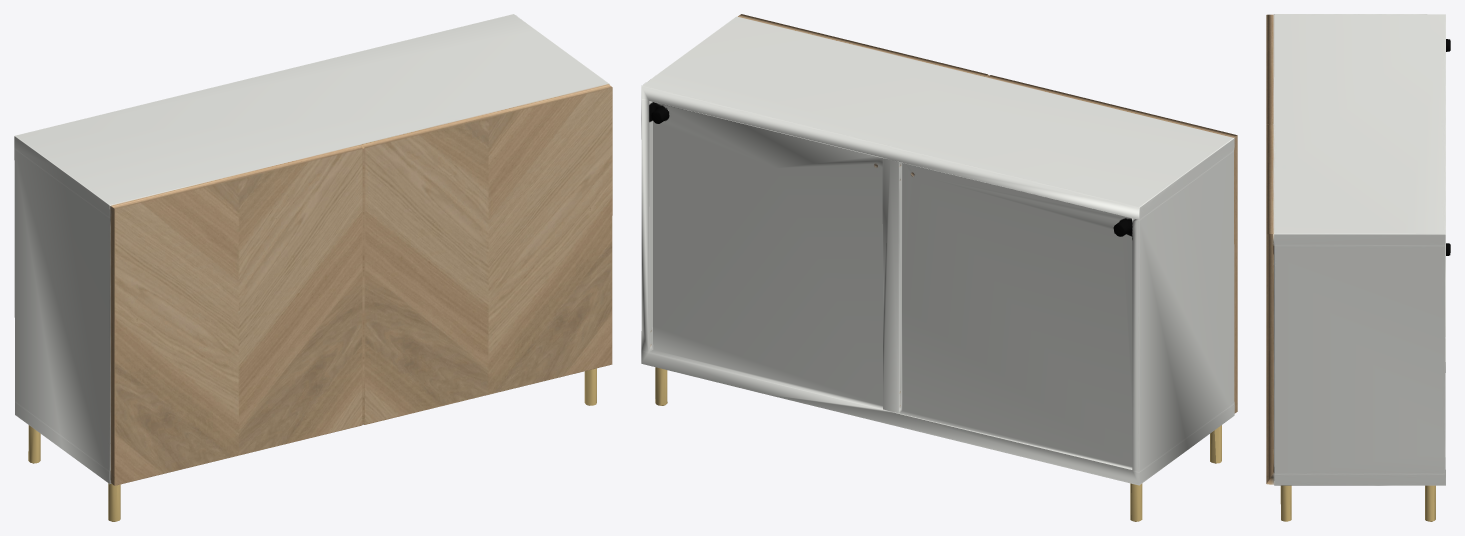
The model's file is BESTÅ storage combination with doors - whiteHedevikenÖsarp oak veneer (59417365).glb.
3 renders of one model, left to right at view 1: azimuth 30°, elevation 25°; view 2: azimuth 150°, elevation 25°; view 3: azimuth 270°, elevation 25°, orthographic. The views are drawn at different scales.
Visible parts, largest first — view 1: ProcessedMeshNode; view 2: ProcessedMeshNode; view 3: ProcessedMeshNode.
Part boxes in pixels (bbox=[...]): ProcessedMeshNode: bbox=[14, 14, 612, 521]; ProcessedMeshNode: bbox=[641, 14, 1237, 521]; ProcessedMeshNode: bbox=[1266, 14, 1450, 521].
Bounding box in the file's own units: 1.2 × 0.7409 × 0.4248.
1 material, 1 textured.
